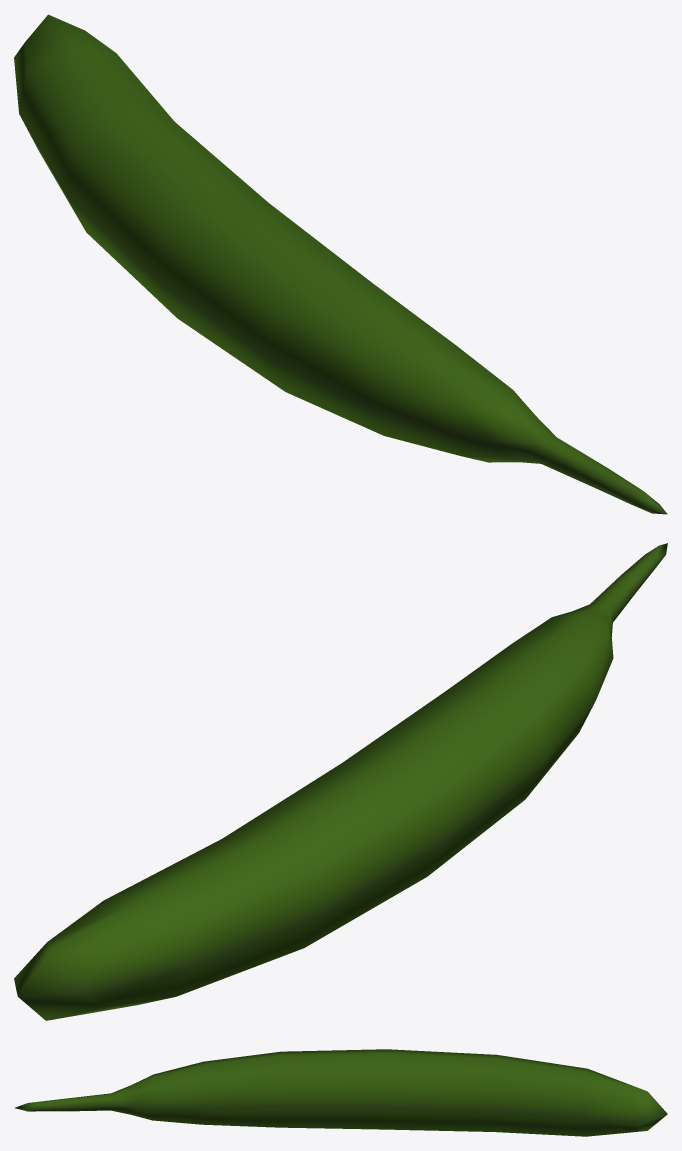
The model's file is GreenBean (8).fbx.
The picture shows the model from 3 angles, top to bottom: view 1: azimuth 30°, elevation 25°; view 2: azimuth 150°, elevation 25°; view 3: azimuth 270°, elevation 25°; orthographic projection. The views are drawn at different scales.
Visible parts, largest first — view 1: Apple (4); view 2: Apple (4); view 3: Apple (4).
Part boxes in pixels (x1,y1,x2,y2): Apple (4): (14, 14, 667, 514); Apple (4): (14, 543, 667, 1020); Apple (4): (14, 1049, 667, 1136).
Size of the model in its own units: 0.2647 by 0.1772 by 1.55.
